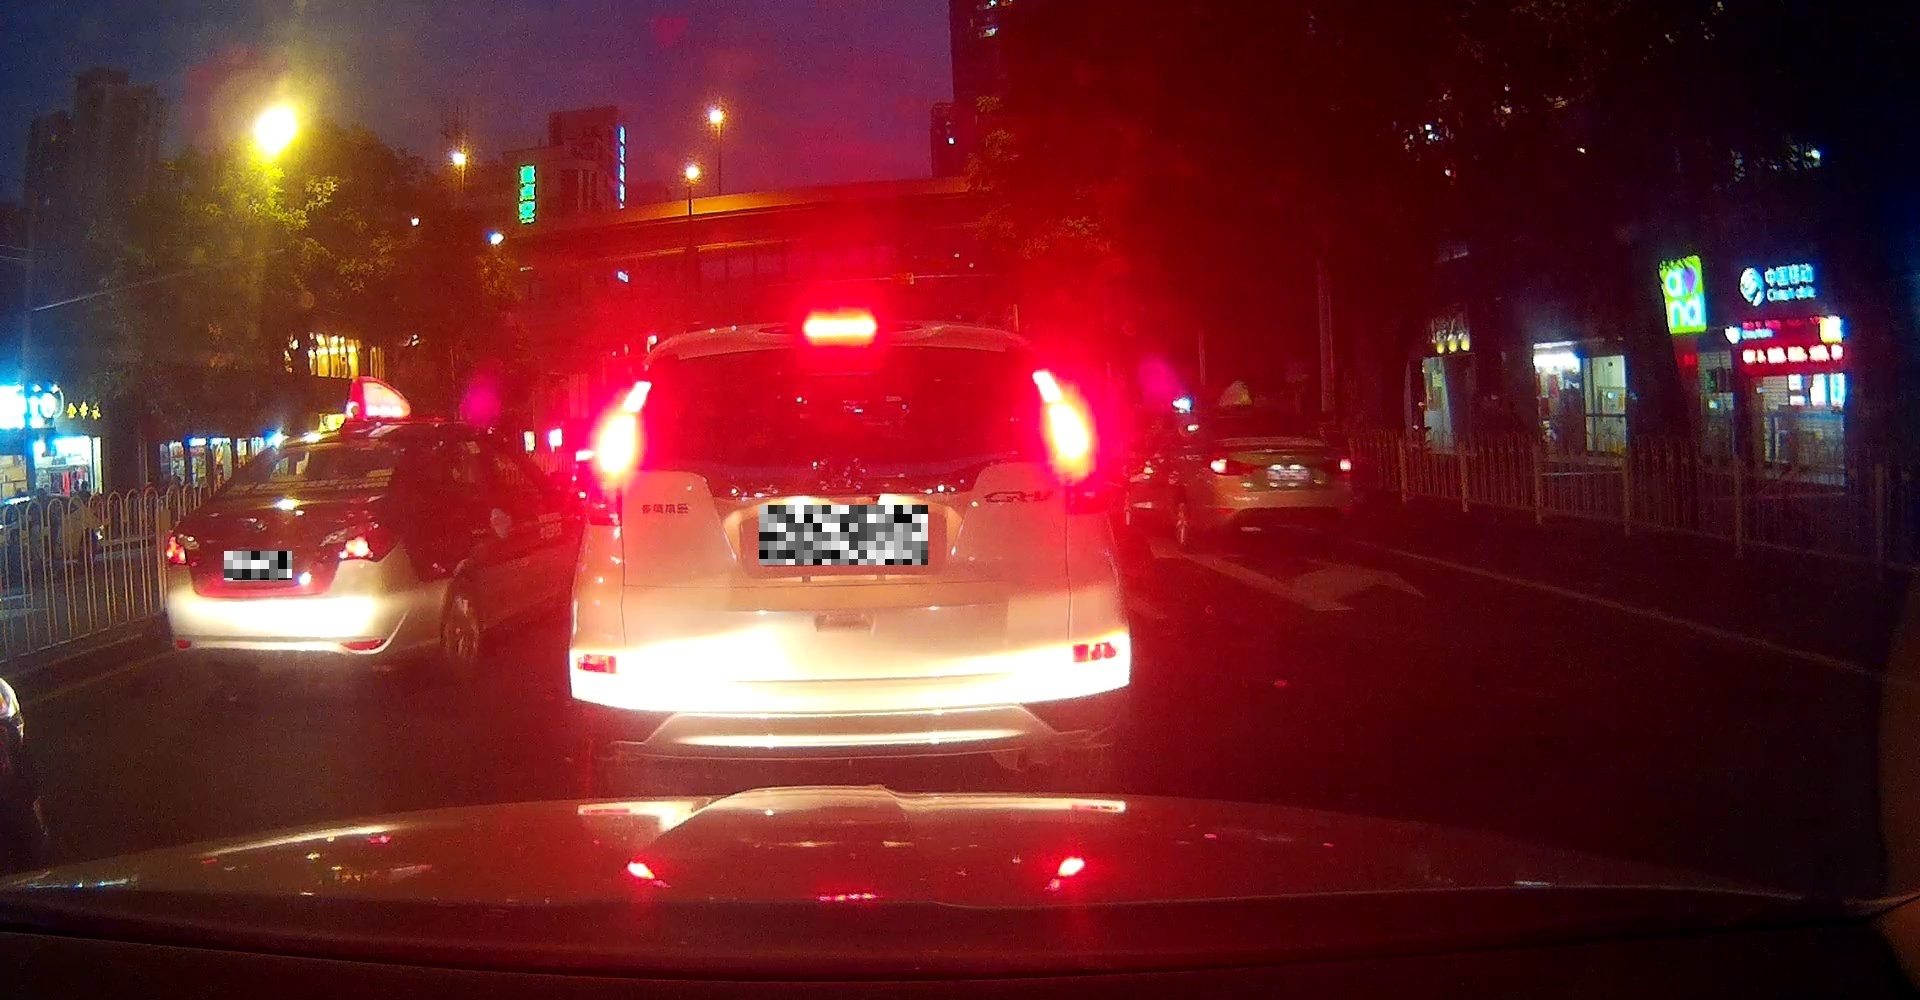L_light: (590, 411, 641, 484), (1208, 458, 1251, 475), (164, 534, 185, 566)
R_light: (1044, 388, 1095, 478), (339, 524, 395, 562), (1323, 456, 1351, 476)
T_light: (803, 312, 875, 343), (311, 442, 342, 451), (1252, 414, 1275, 420)
night-brake: (570, 308, 1131, 798)
night-no: (164, 424, 413, 692), (1182, 407, 1352, 547)
plate_1: (223, 551, 292, 580)
plate_2: (759, 505, 928, 565)
